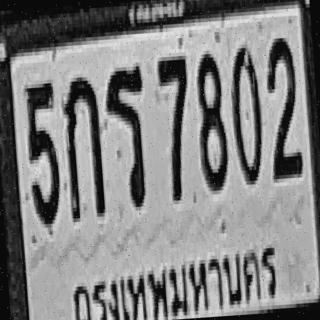A01: (61, 73, 106, 218)
A35: (103, 64, 151, 210)
N00: (228, 43, 266, 185)
N02: (263, 34, 302, 179)
N05: (24, 77, 62, 226)
N07: (156, 52, 194, 201)
N08: (193, 49, 230, 191)
P04: (57, 232, 286, 320)
